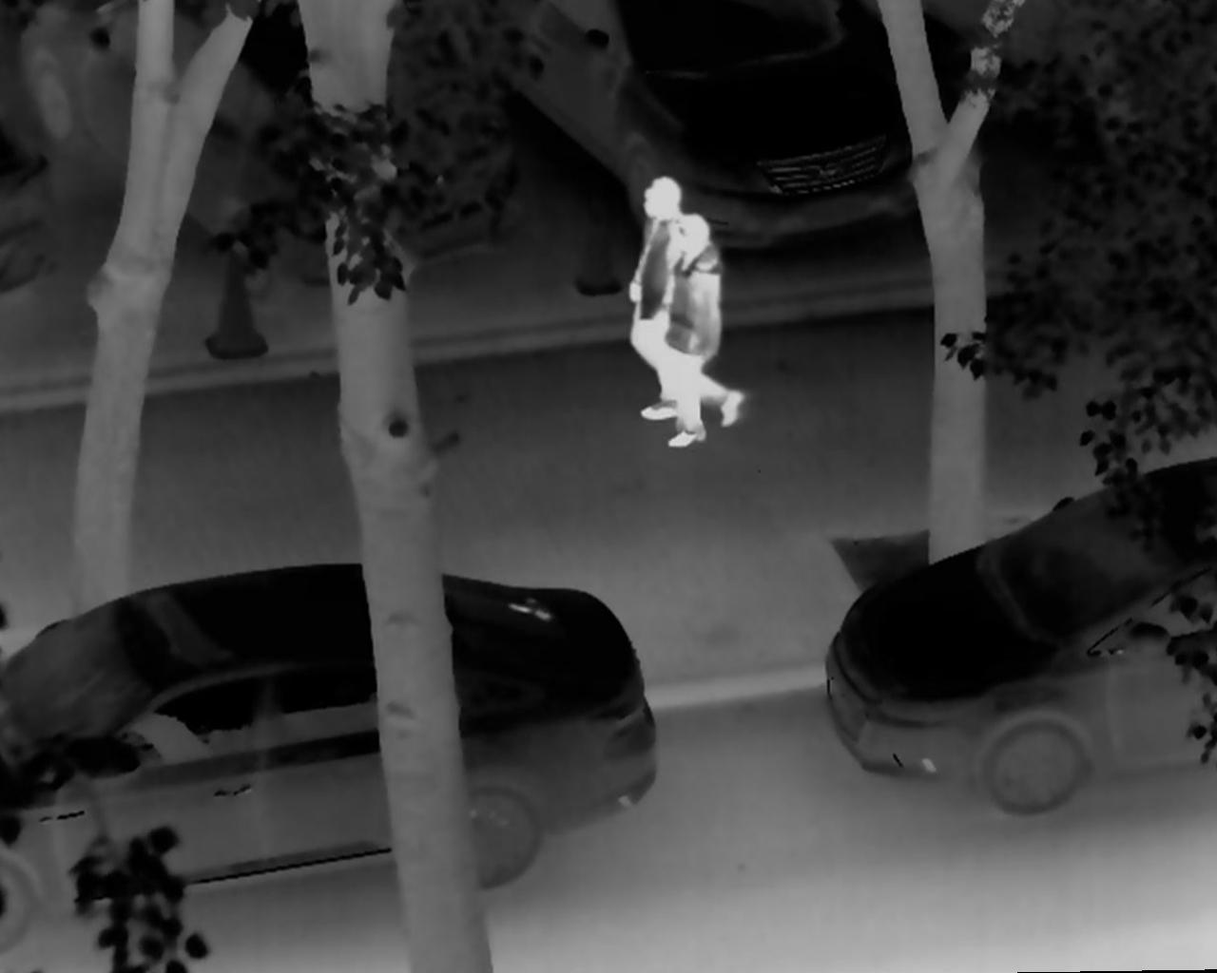person: (624, 171, 721, 420), (656, 216, 749, 455)
